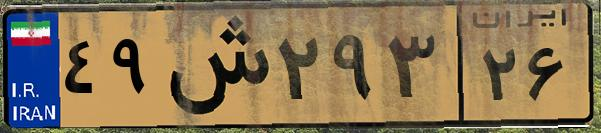2: (270, 28, 330, 110), (475, 38, 525, 113)
3: (385, 28, 445, 110)
4: (57, 26, 110, 100)
6: (525, 38, 570, 115)
9: (330, 28, 385, 110), (110, 28, 158, 98)
ش: (158, 12, 270, 120)
